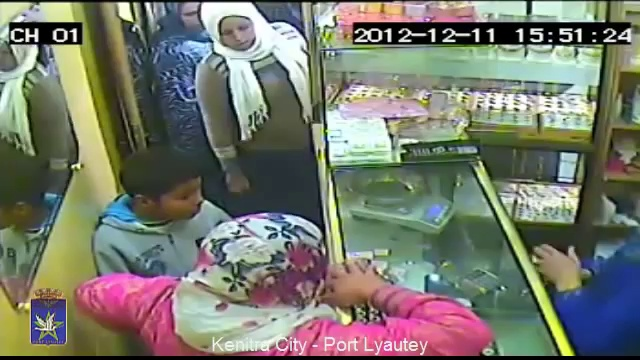face: (152, 179, 203, 221), (215, 16, 256, 55)
